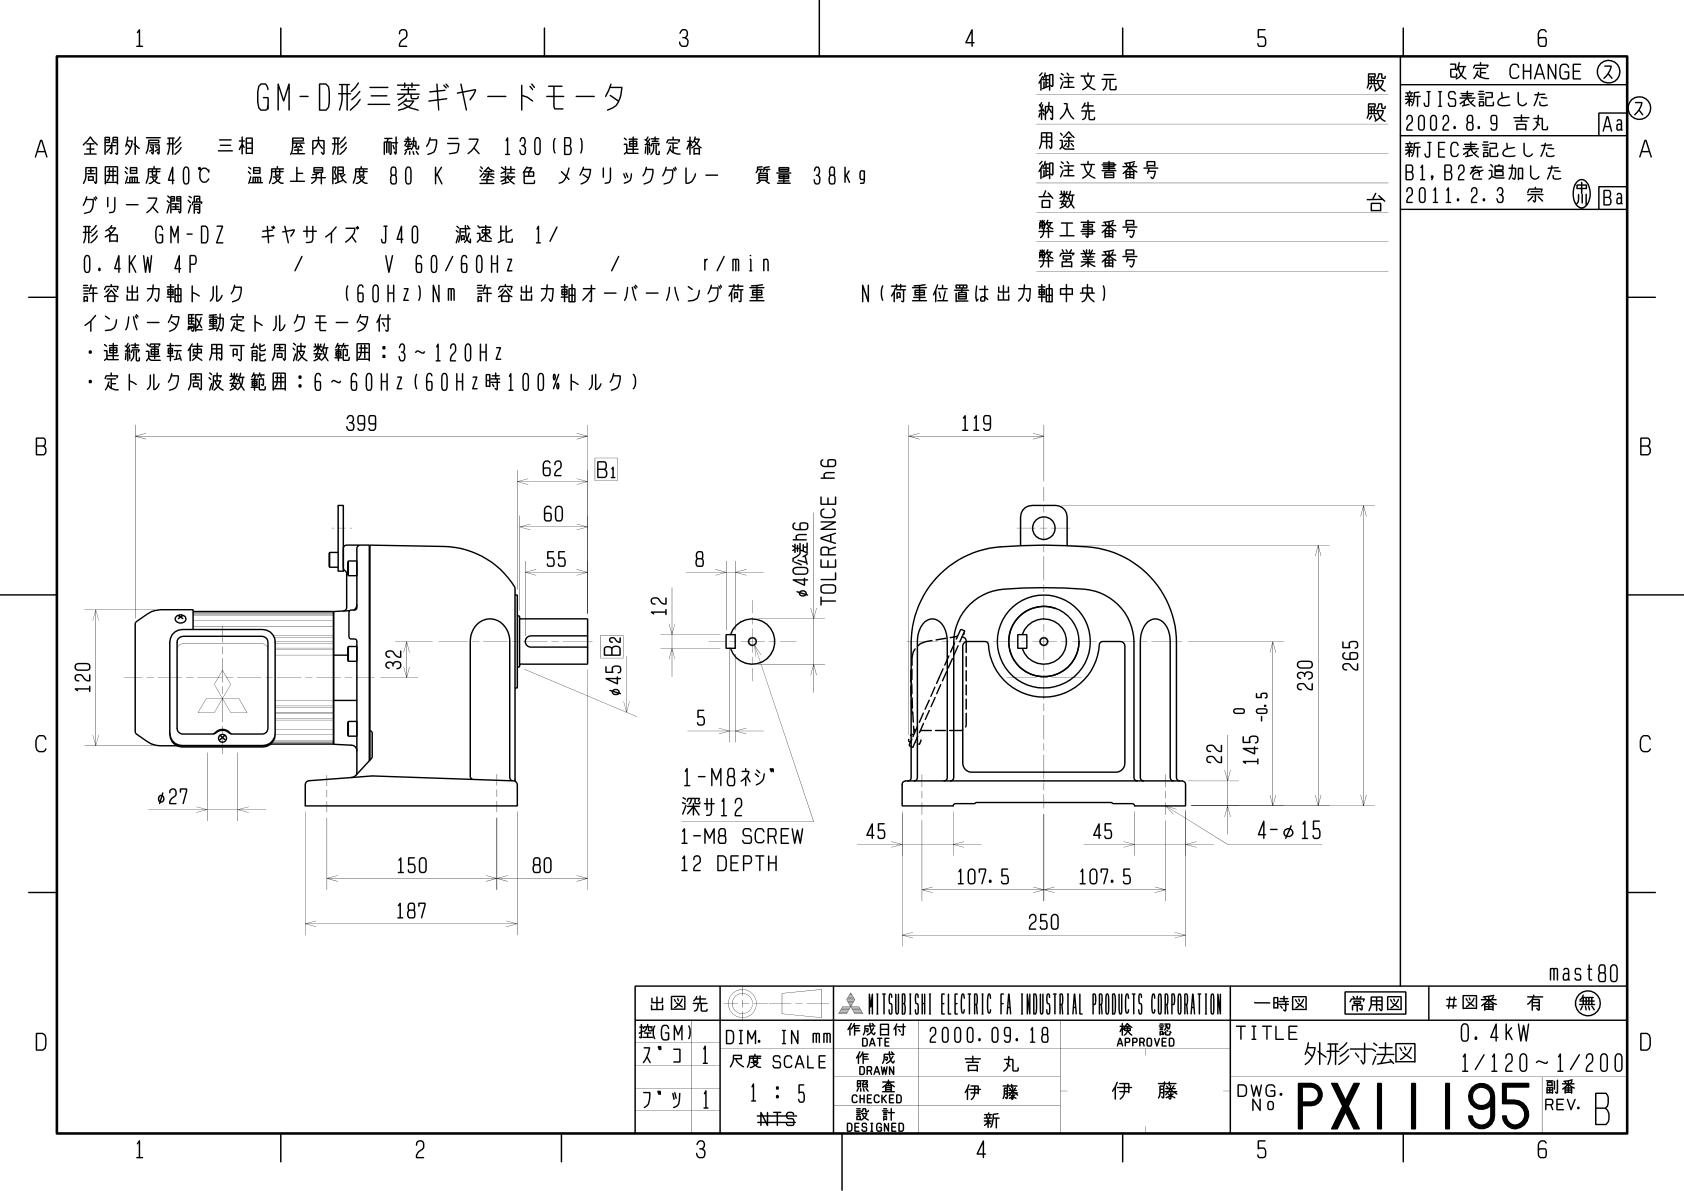GM_D_インバータ屋内_三相_脚: (64, 391, 1392, 973)
